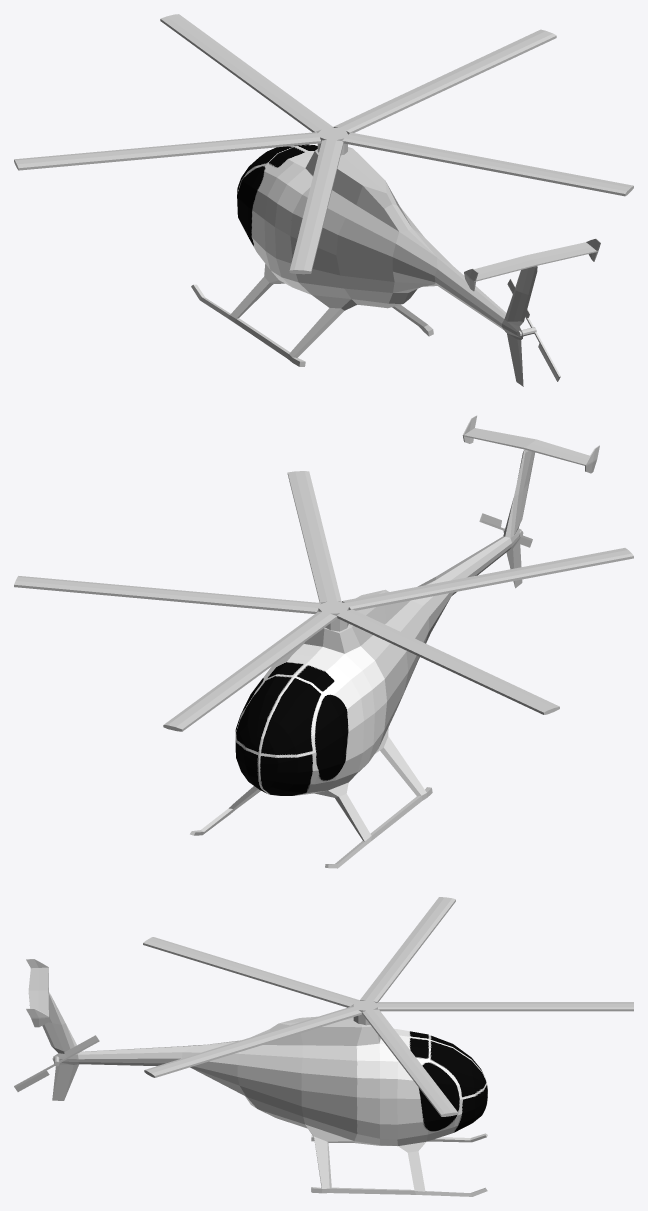
File: Heli.gltf
3 renders of one model, top to bottom at view 1: azimuth 30°, elevation 25°; view 2: azimuth 150°, elevation 25°; view 3: azimuth 270°, elevation 25°, orthographic. The views are drawn at different scales.
Parts seen in each view (by area): view 1: HeliBody, MainRotor, TailRotor; view 2: HeliBody, MainRotor; view 3: HeliBody, MainRotor, TailRotor.
Part boxes in pixels (x1,y1,x2,y2): HeliBody: (191,144,600,386); MainRotor: (14,14,633,274); TailRotor: (507,278,560,381); HeliBody: (190,415,599,868); MainRotor: (14,471,633,731); HeliBody: (26,959,487,1196); MainRotor: (143,897,633,1116); TailRotor: (14,1035,99,1091).
Size of the model in its own units: 10.2 by 4.04 by 12.27.
Materials: 1 (1 with a texture image).
